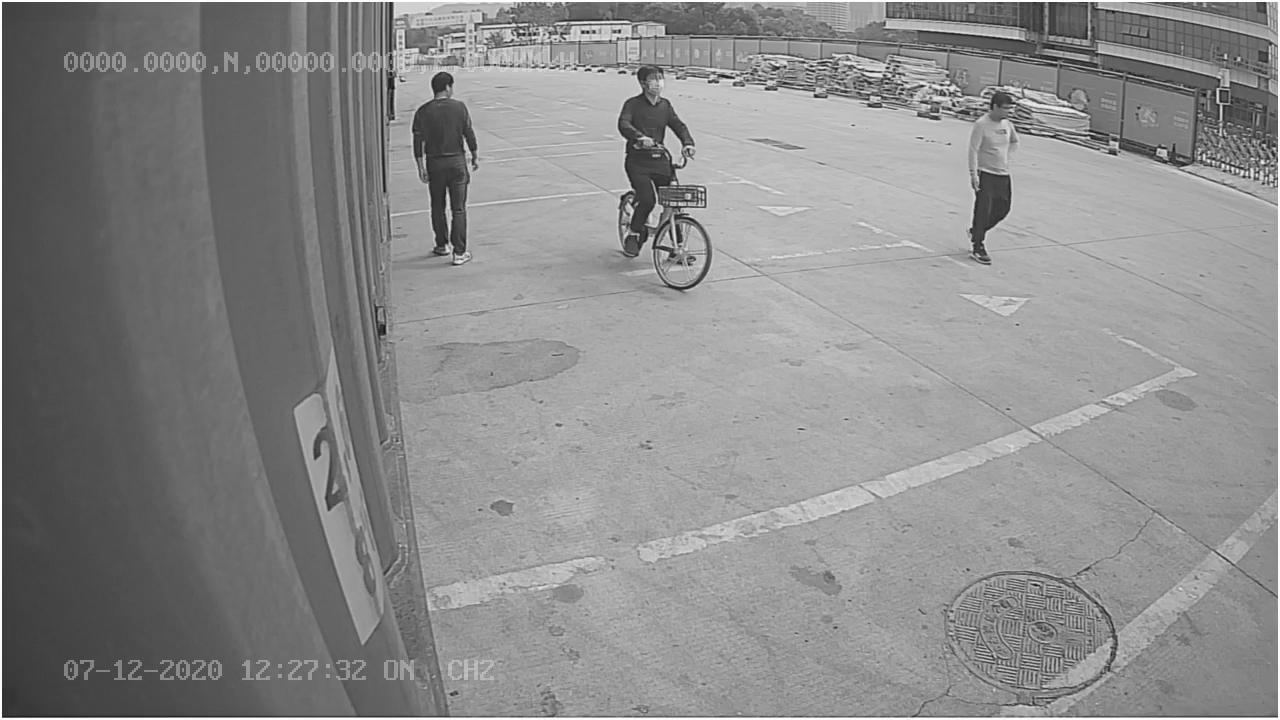person: (405, 69, 483, 267)
